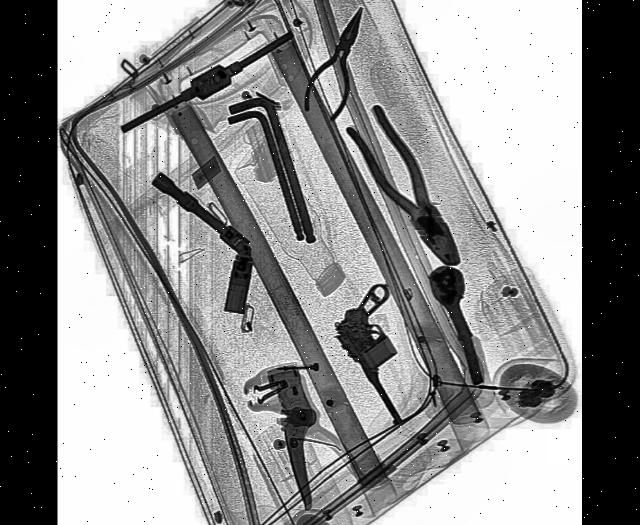Gun: (329, 270, 444, 432)
Pliers: (346, 94, 472, 283), (300, 0, 380, 129)
